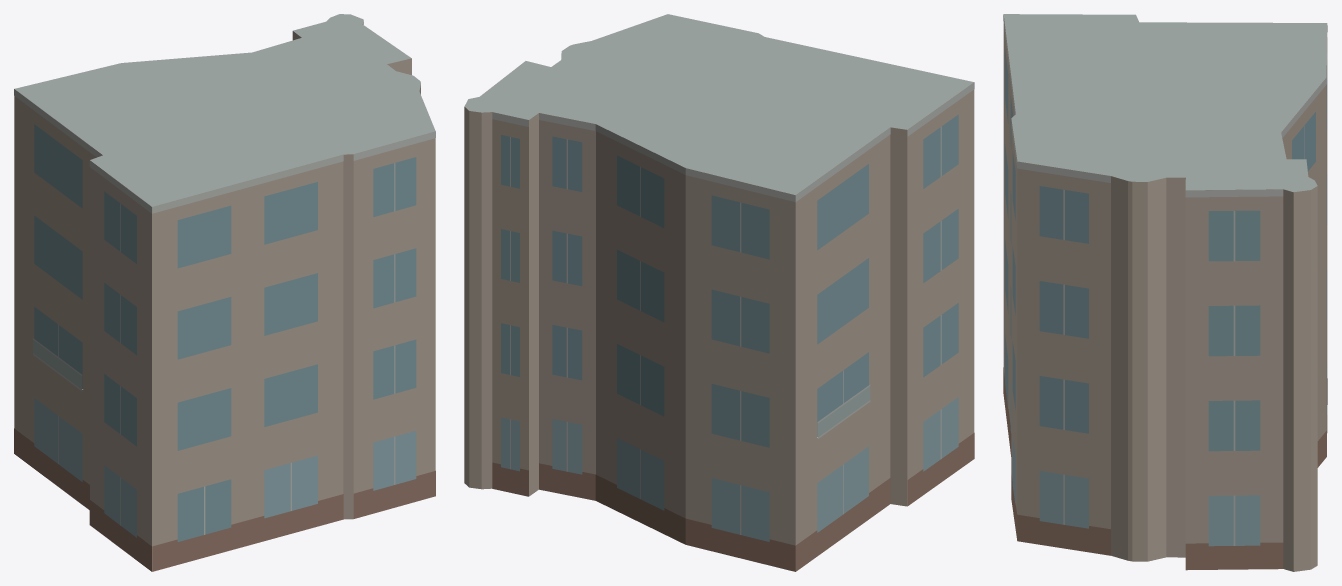
Rendered from survey-upis-32456787.glb.
3 renders of one model, left to right at view 1: azimuth 30°, elevation 25°; view 2: azimuth 150°, elevation 25°; view 3: azimuth 270°, elevation 25°, orthographic. The views are drawn at different scales.
Parts seen in each view (by area): view 1: survey-upis-32456787.tmp; view 2: survey-upis-32456787.tmp; view 3: survey-upis-32456787.tmp.
Boxes of the visible parts, x1,y1,x2,y2 form: survey-upis-32456787.tmp: (14, 14, 435, 571); survey-upis-32456787.tmp: (464, 14, 974, 571); survey-upis-32456787.tmp: (1003, 14, 1327, 571).
Bounding box in the file's own units: 13.19 × 13.1 × 10.13.
